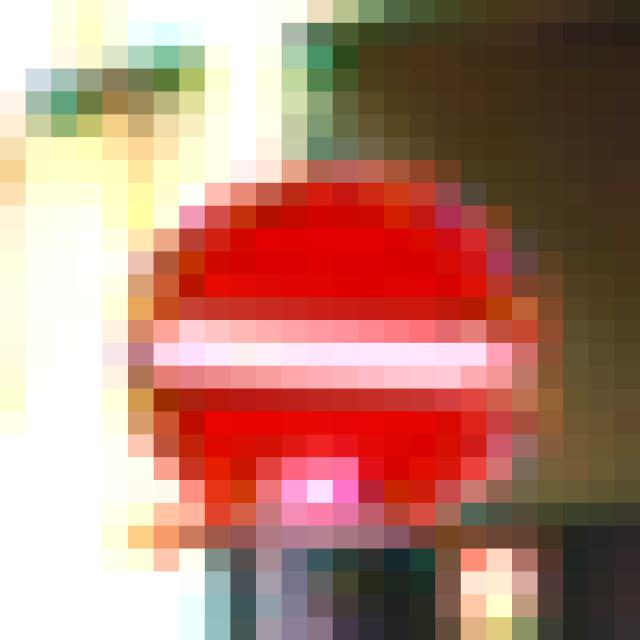No Entry: (129, 115, 513, 527)
